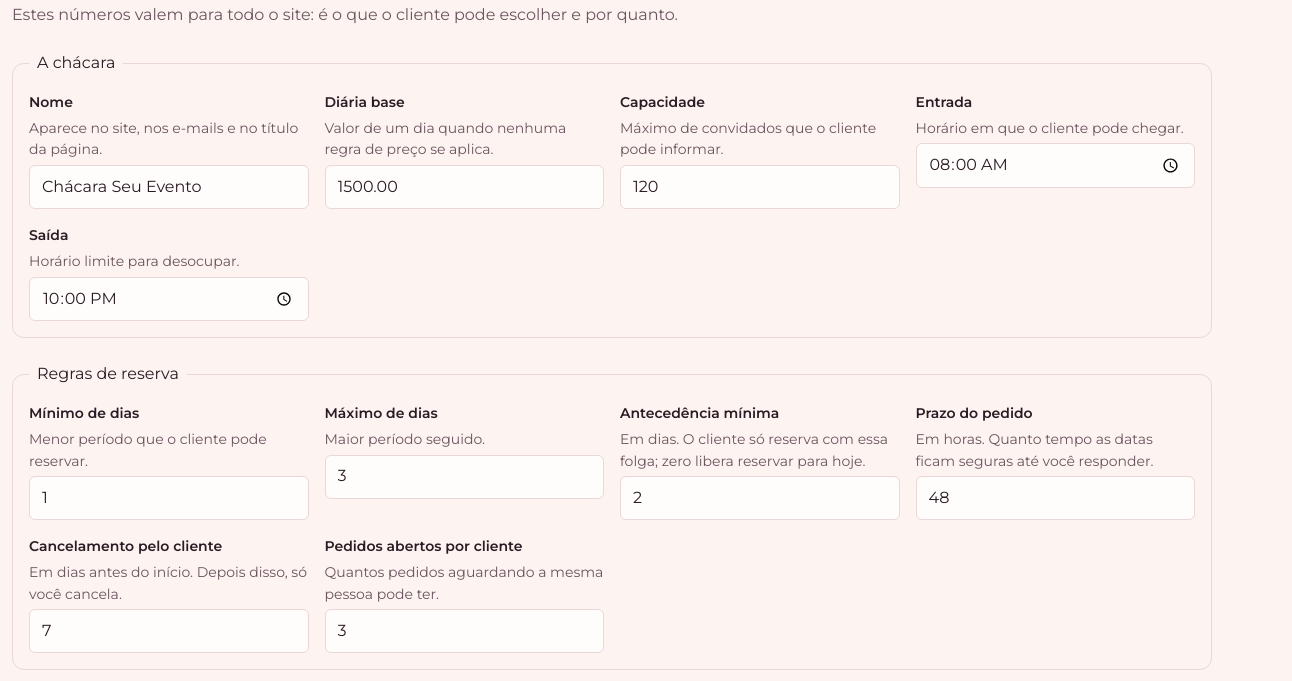
Test: SettingsPage › oferece desfazer e volta aos valores do servidor
Type "!" into the field labelled "Nome" at coordinates (169, 187), box [29,165,308,209]
(page scrolled)
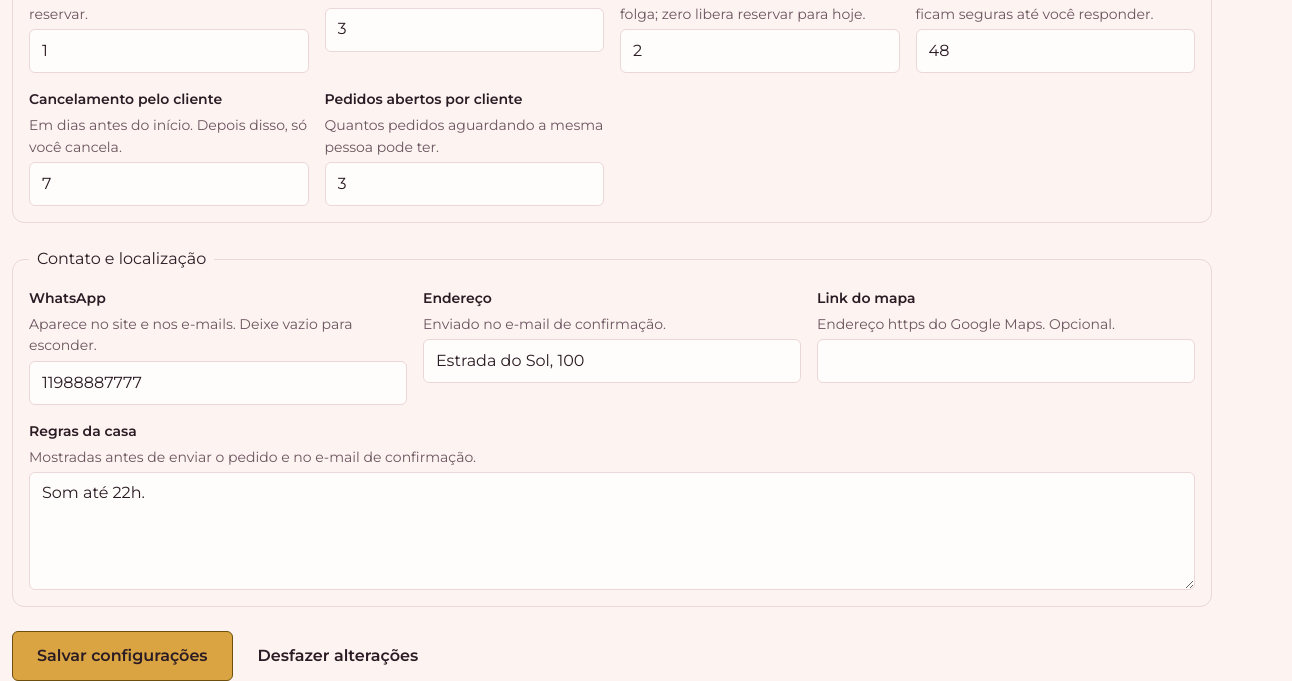
Click the button "Desfazer alterações" at coordinates (338, 656), box [245,631,431,680]
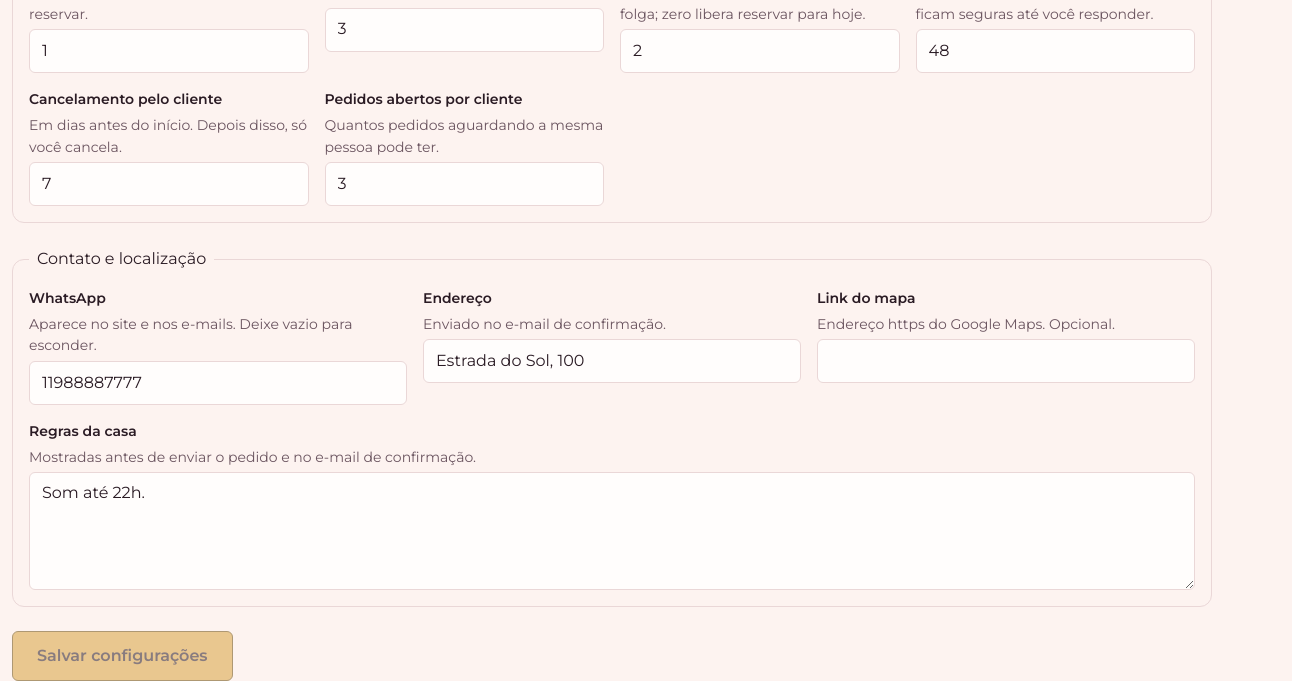
Now the button "Salvar configurações" is disabled, box [12,631,233,680]
